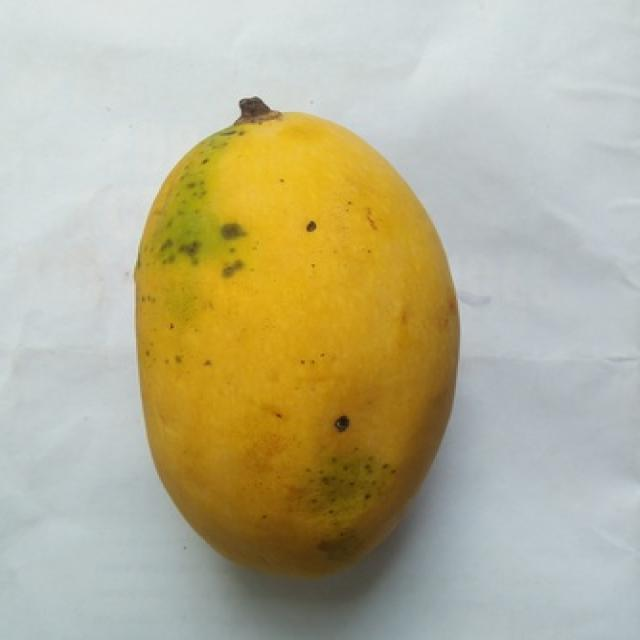Mango: (136, 98, 456, 573)
